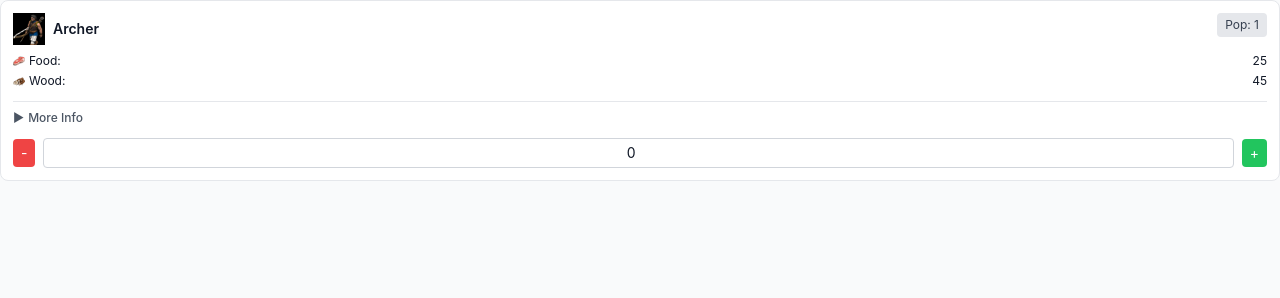
Test: UnitCard › More Info section (consolidated counters and stats) › should display counter unit names
What coordinates should you click on to do the following:
click the text "More Info"
I would click on:
 (56, 118)
Its box is [28,110,83,126].
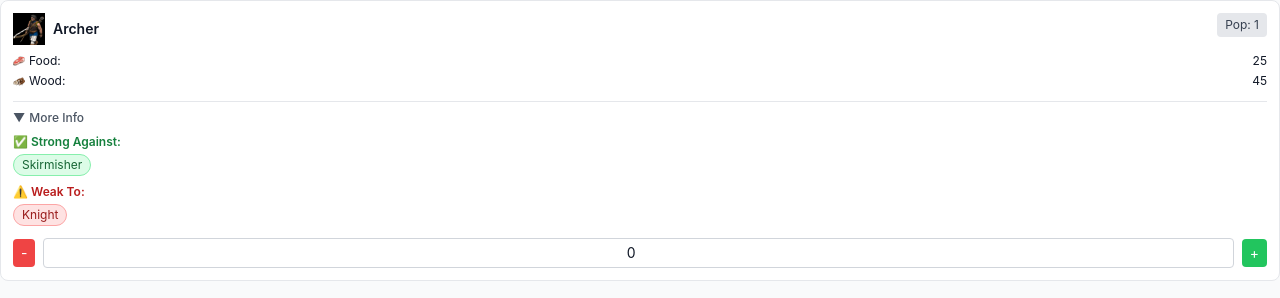
Now the text "Skirmisher" is shown, box [13,154,91,176]
